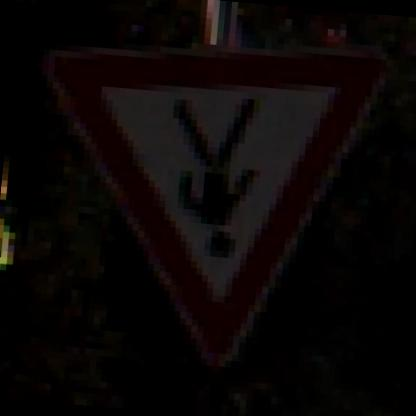crosswalk: (18, 16, 389, 380)
